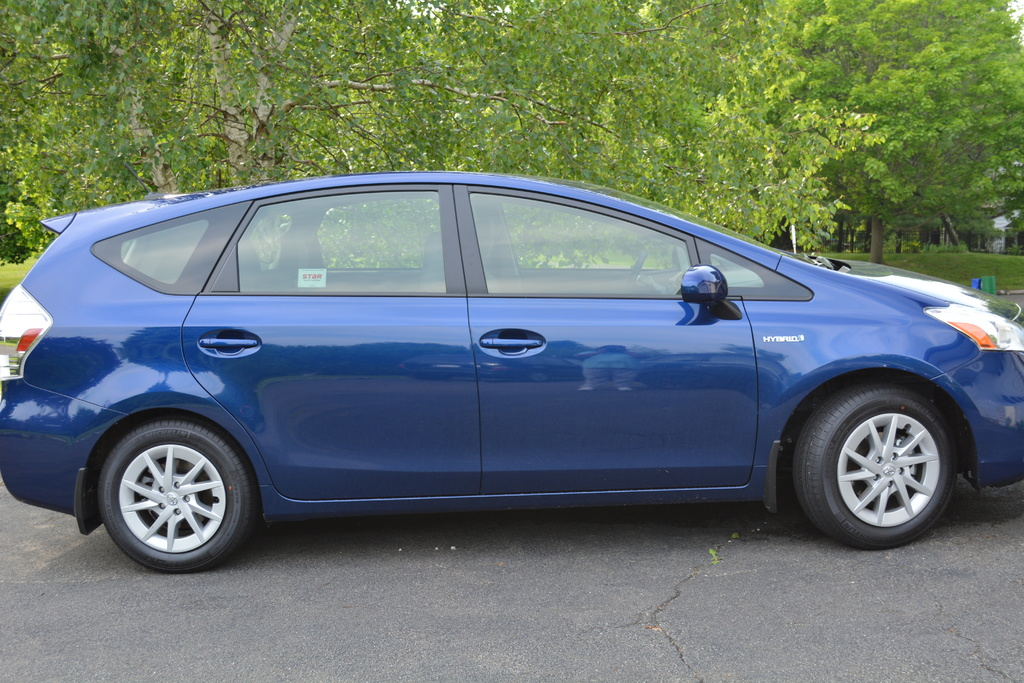Car: (0, 171, 1024, 573)
